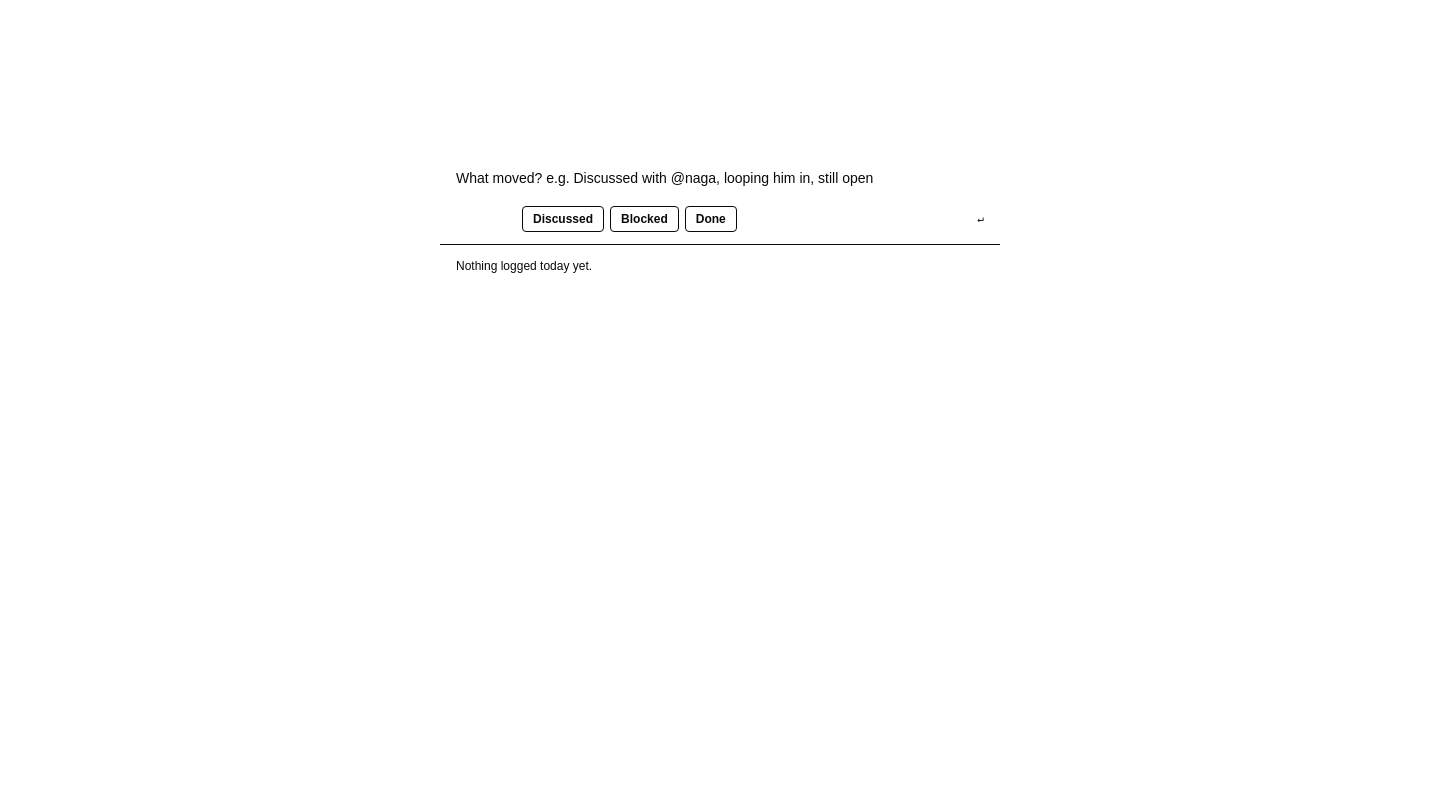
Test: LogProgressDialog › keeps a line when the server cannot be reached, says so, and sends it on the next load
Replace the text in the field named "Progress line" with "Looped in the playbook team". click: (720, 178)
box: [456,158,984,198]
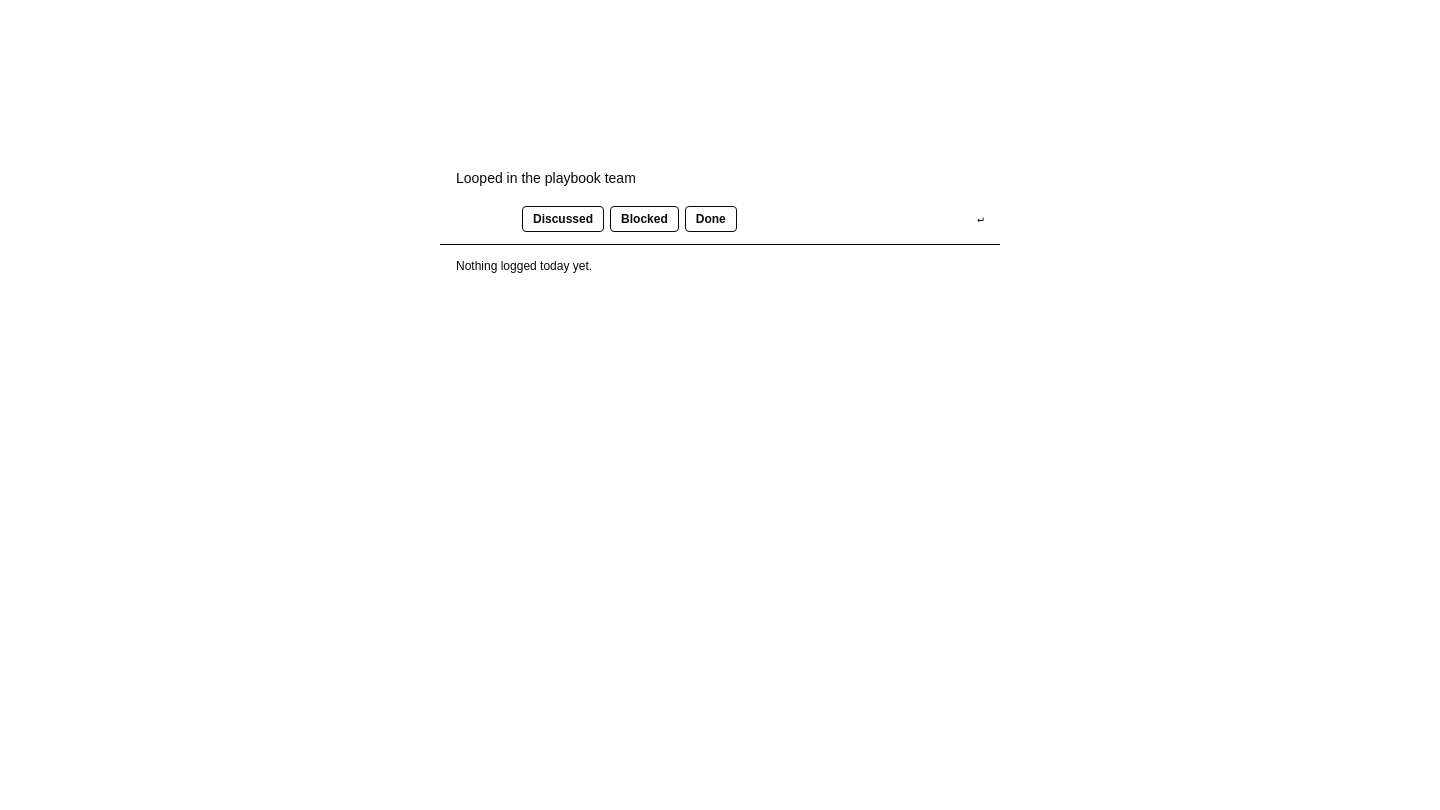
Press Enter in the field named "Progress line", box [456,158,984,198]
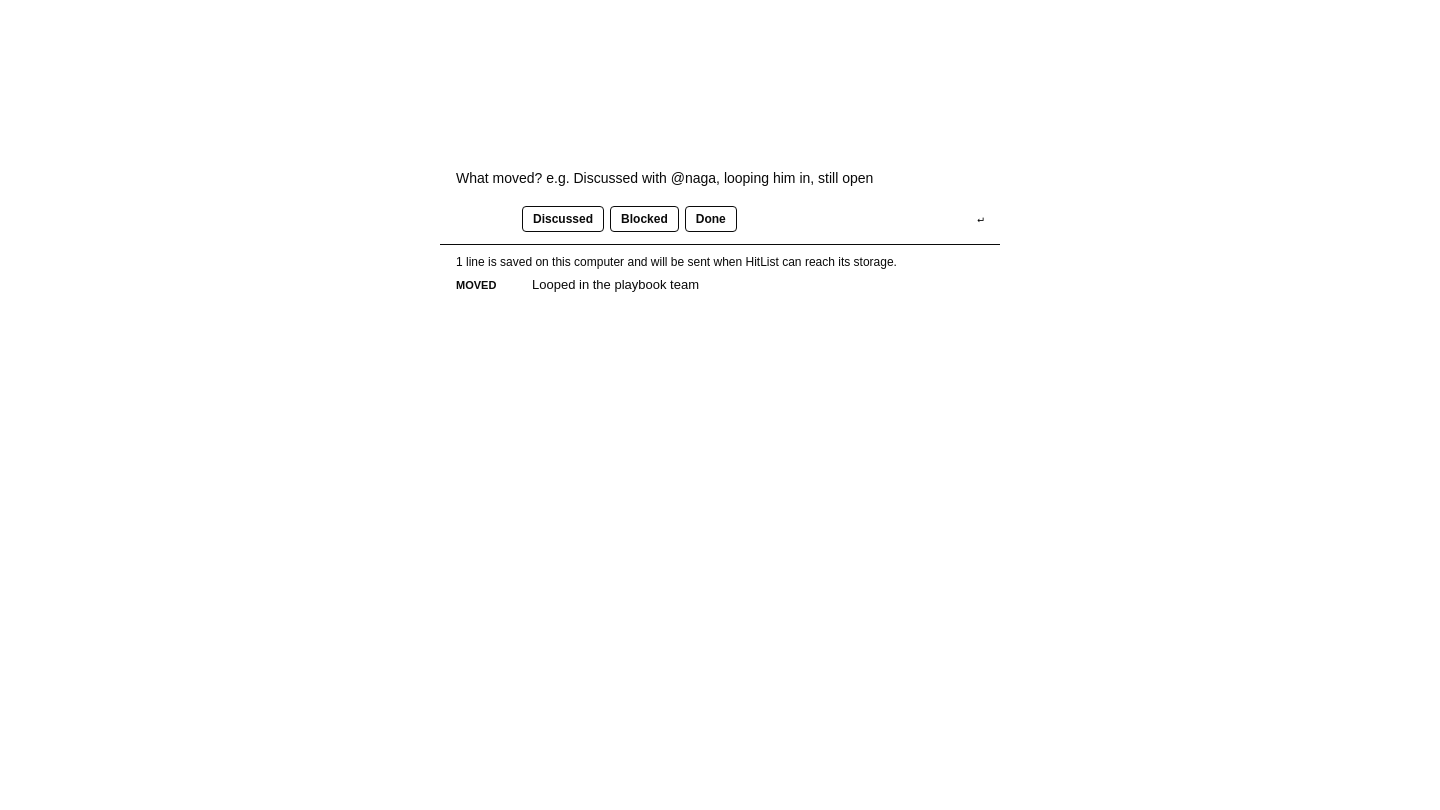
Now the text "saved on this computer" is shown, box [497,255,897,269]
